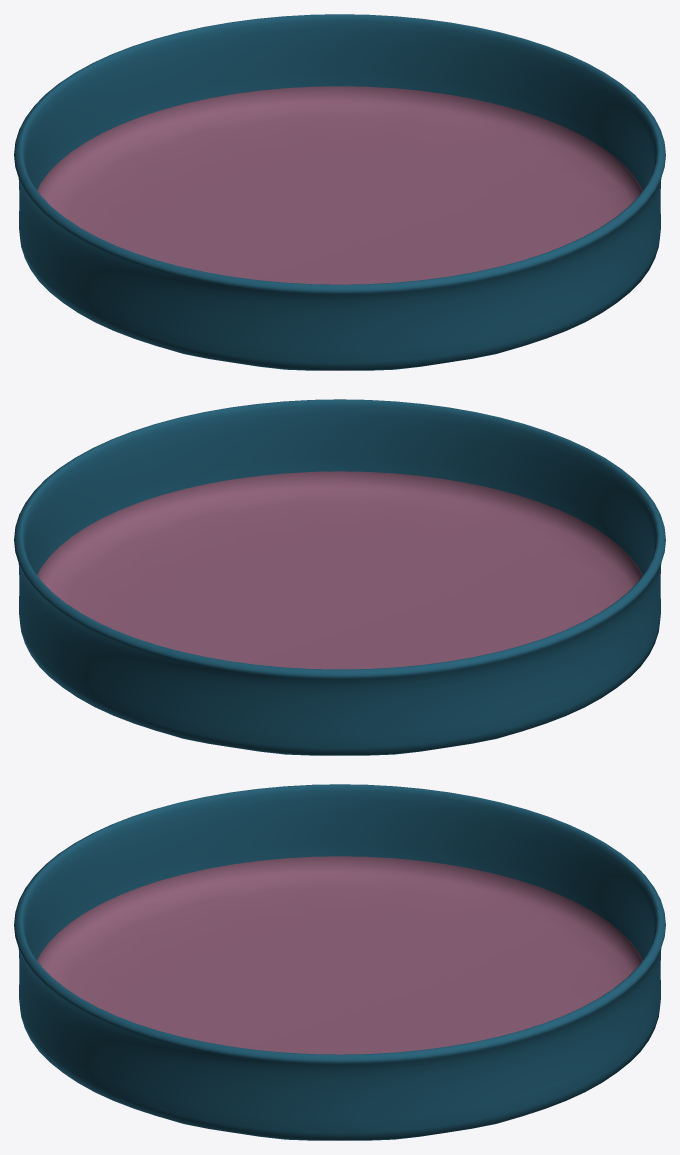
The model's file is Cake Tin - Empty.fbx.
3 renders of one model, top to bottom at view 1: azimuth 30°, elevation 25°; view 2: azimuth 150°, elevation 25°; view 3: azimuth 270°, elevation 25°, orthographic.
Visible parts, largest first — view 1: CakeTin; view 2: CakeTin; view 3: CakeTin.
Boxes of the visible parts, x1,y1,x2,y2 form: CakeTin: (14,14,665,370); CakeTin: (14,399,665,755); CakeTin: (14,784,665,1140).
Bounding box in the file's own units: 46.13 × 7.25 × 46.13.
